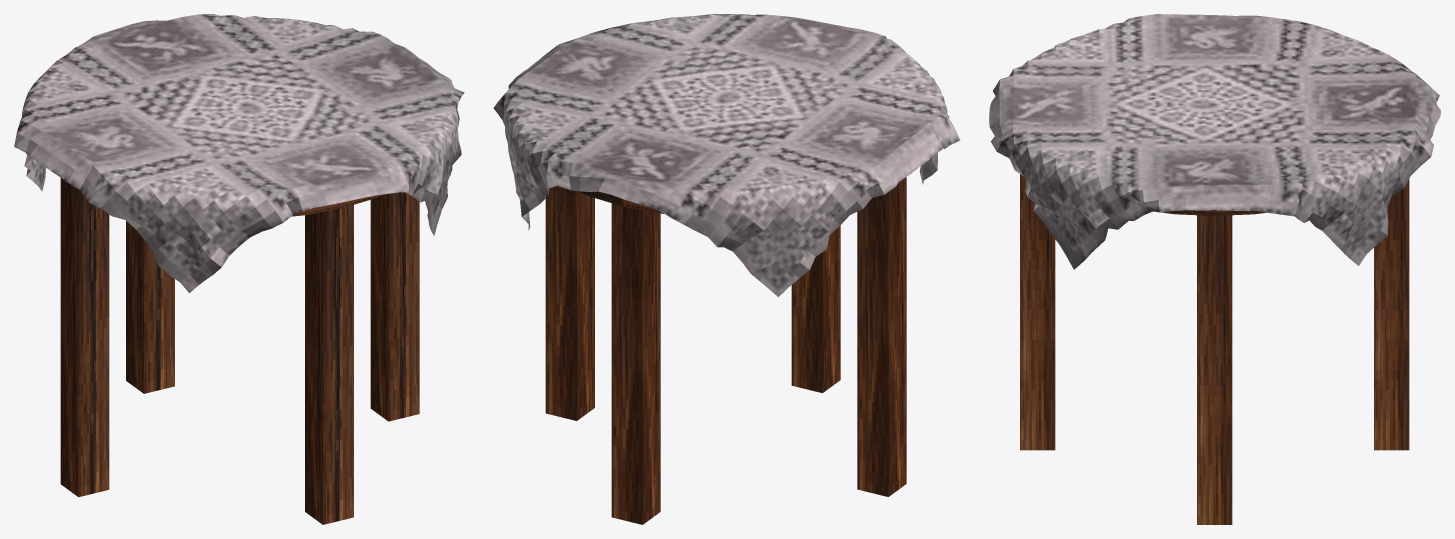
Rendered from lil_table.glb.
The picture shows the model from 3 angles, left to right: view 1: azimuth 30°, elevation 25°; view 2: azimuth 150°, elevation 25°; view 3: azimuth 270°, elevation 25°; orthographic projection.
Parts seen in each view (by area): view 1: Plane, Cube.003, Cube.001, Cube, Cube.002; view 2: Plane, Cube.002, Cube.001, Cube, Cube.003; view 3: Plane, Cube, Cube.002, Cube.003.
Part boxes in pixels (box(x1,y1,x2,y2)): Plane: box(14, 14, 464, 292); Cube.003: box(305, 205, 353, 524); Cube.001: box(60, 178, 109, 497); Cube: box(370, 192, 419, 421); Cube.002: box(126, 221, 174, 393); Plane: box(493, 14, 960, 297); Cube.002: box(611, 203, 660, 524); Cube.001: box(857, 177, 906, 496); Cube: box(545, 186, 594, 420); Cube.003: box(791, 225, 840, 393); Plane: box(989, 14, 1440, 269); Cube: box(1197, 215, 1232, 524); Cube.002: box(1374, 179, 1409, 450); Cube.003: box(1020, 174, 1055, 450).
Size of the model in its own units: 1.27 by 1.07 by 1.28.
6 materials, 6 textured.
